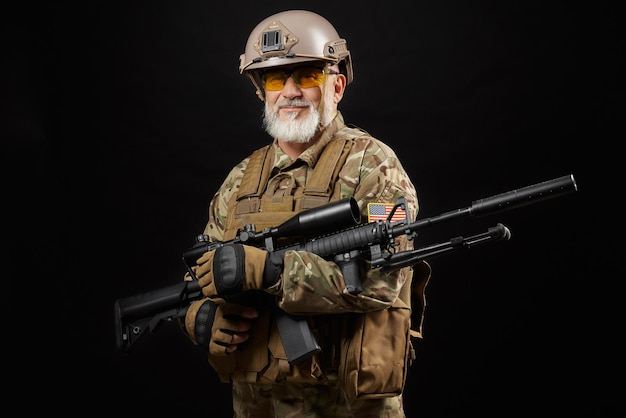gun: (115, 171, 580, 364)
